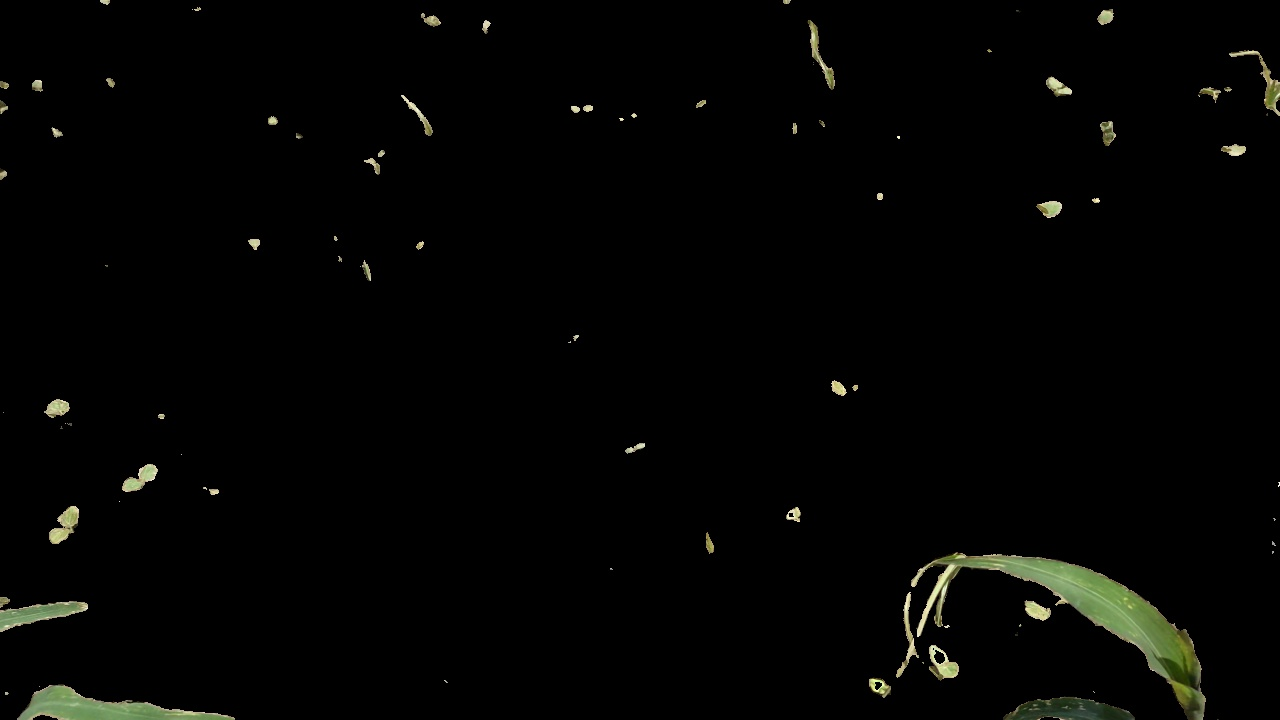crop: (843, 494, 1241, 720)
weed: (38, 491, 101, 552), (115, 452, 156, 514), (933, 639, 963, 692)
